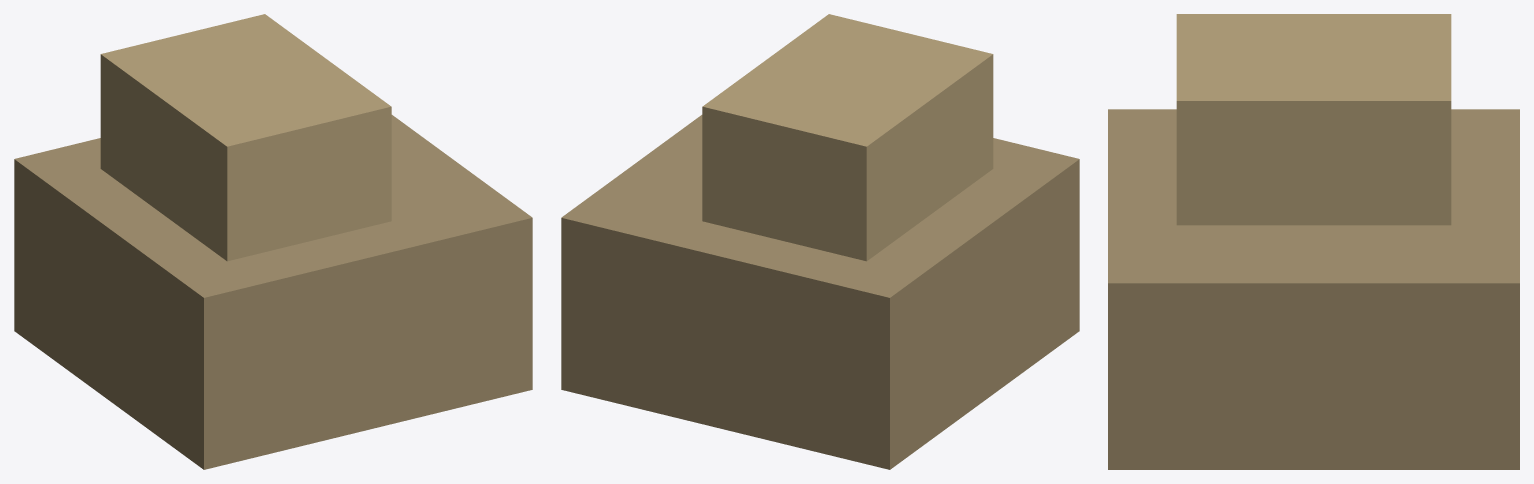
Rendered from escultura_madera_bestia_mitica_01.glb.
3 views of the same model, side by side, from view 1: azimuth 30°, elevation 25°; view 2: azimuth 150°, elevation 25°; view 3: azimuth 270°, elevation 25° (orthographic). The views are drawn at different scales.
Parts seen in each view (by area): view 1: escultura_madera_bestia_mitica; view 2: escultura_madera_bestia_mitica; view 3: escultura_madera_bestia_mitica.
Boxes of the visible parts, x1=… form: escultura_madera_bestia_mitica: x1=14, y1=14, x2=532, y2=469; escultura_madera_bestia_mitica: x1=561, y1=14, x2=1079, y2=469; escultura_madera_bestia_mitica: x1=1108, y1=14, x2=1519, y2=469.
Bounding box in the file's own units: 0.6 × 0.5 × 0.6.
